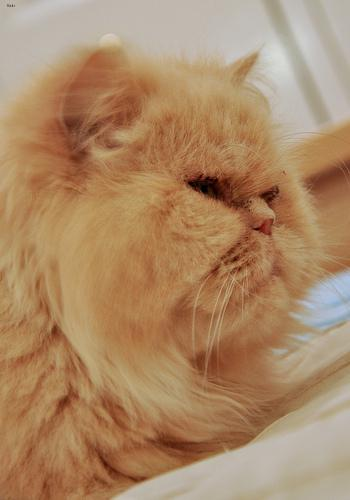cat-Persian: (46, 42, 317, 317)
